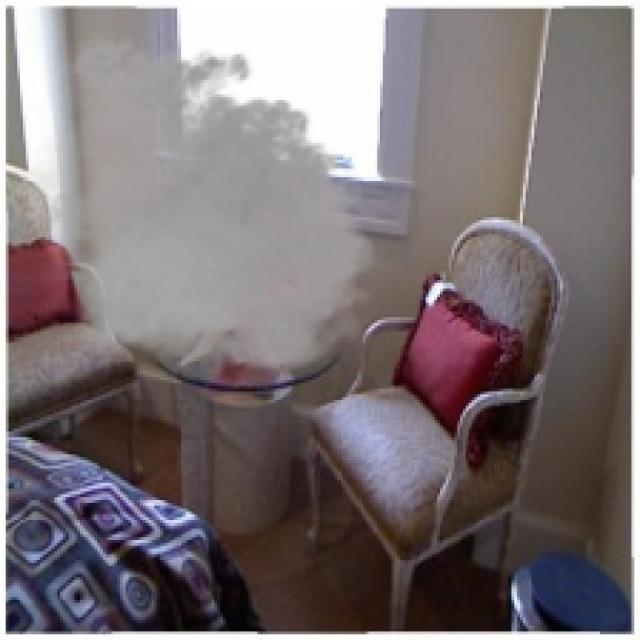Smoke: (11, 28, 388, 383)
